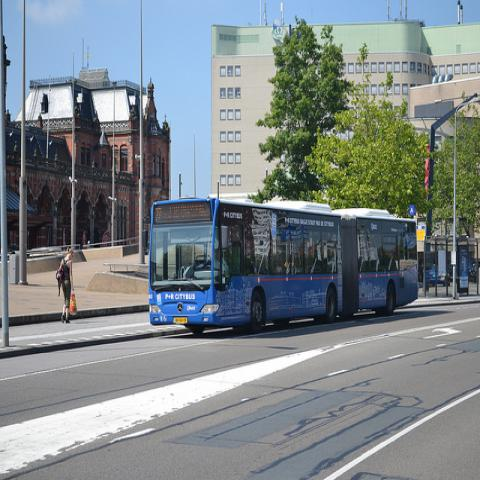bus: (147, 198, 419, 334)
